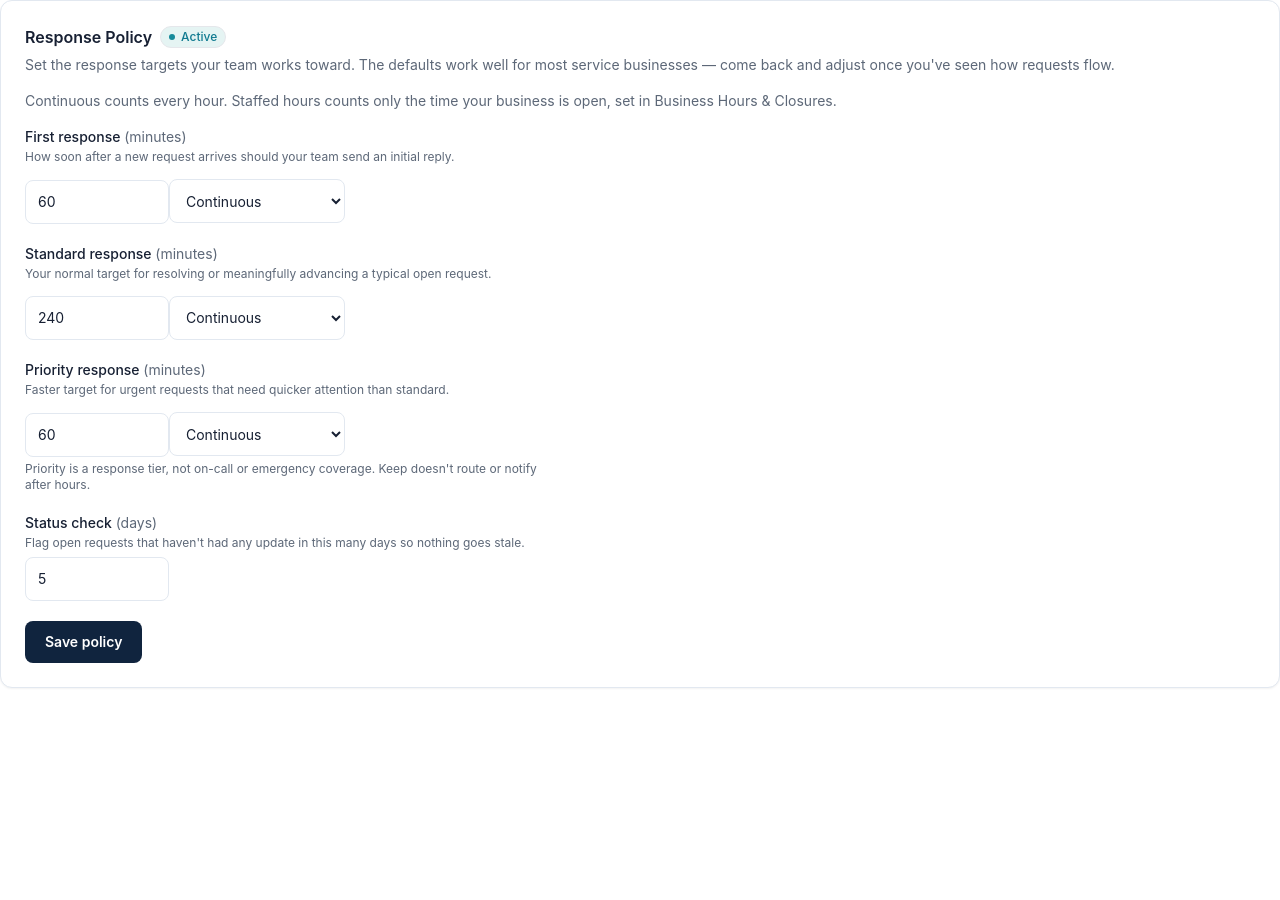
it: PolicySection settingsVersion › resyncs an untouched form from a server change but not a dirty field
The image size is (1280, 900).
Check: the button "Save policy" is shown, box [25,620,142,662]
Replace the text in the number field below "First response" with "30" at [97, 202], box [25,180,169,224]
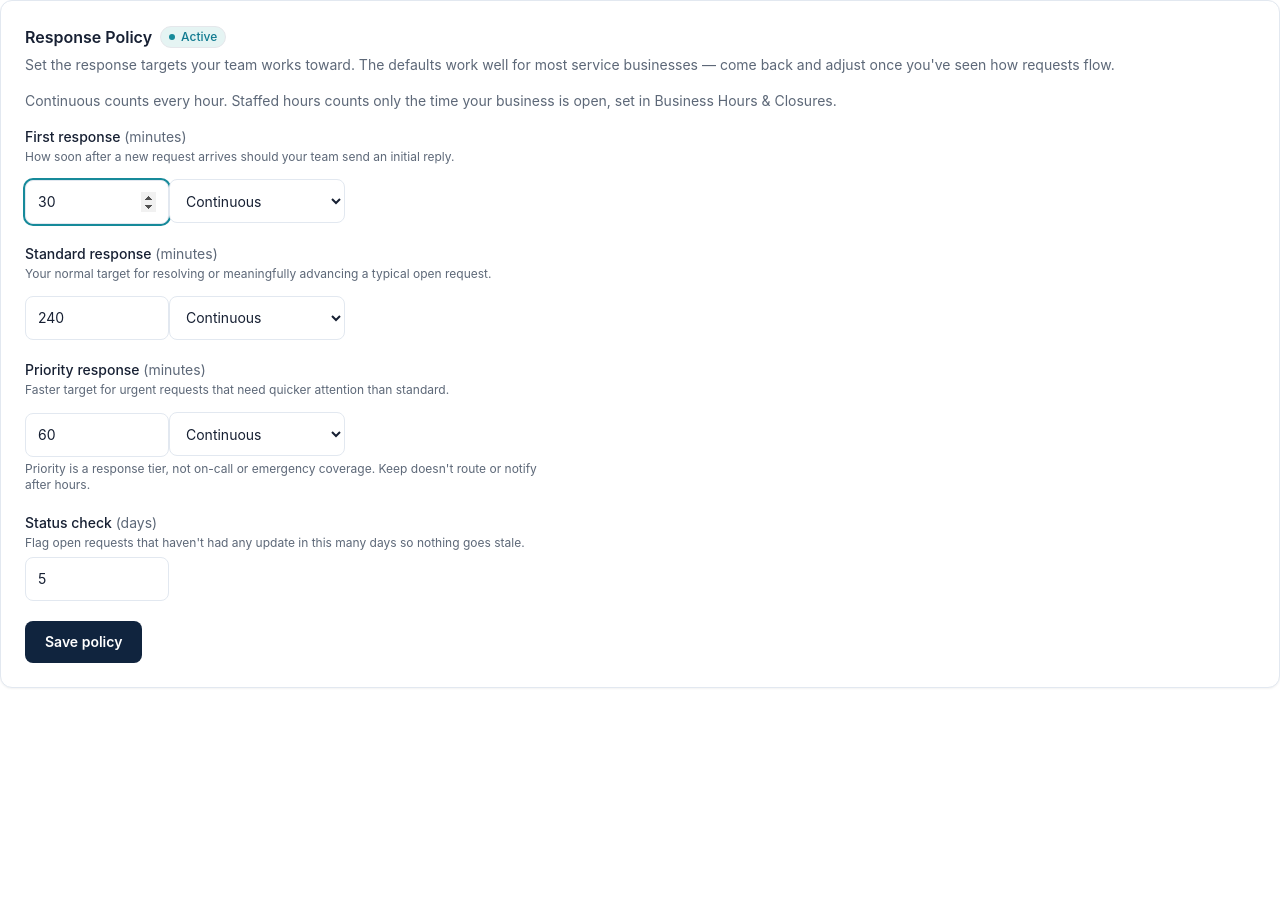
Click the button "Save policy" at [84, 642], box [25,620,142,662]
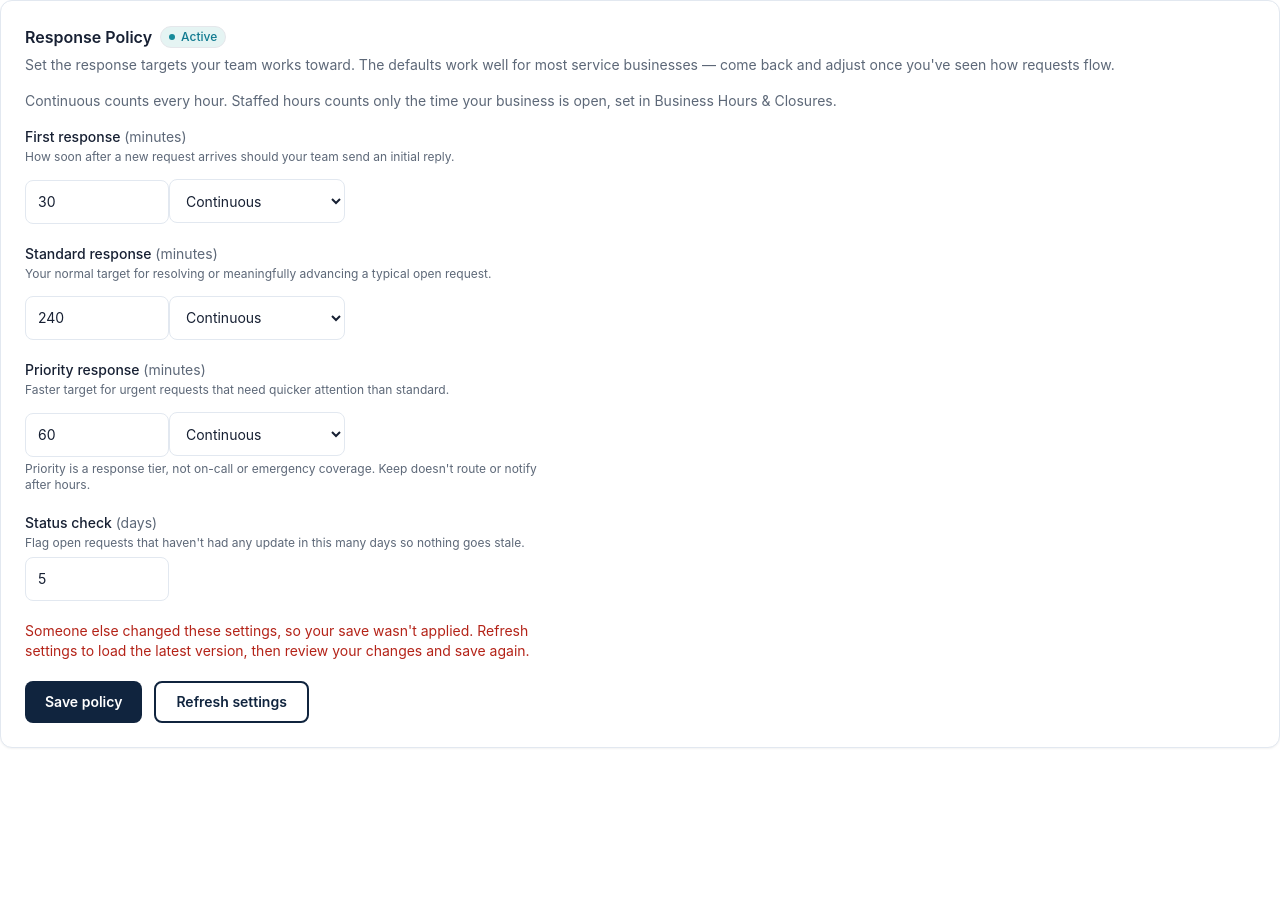
Check: the text "Someone else changed these settings" is shown, box [25,622,530,658]
Click the button "Refresh settings" at [232, 702], box [154,680,309,722]
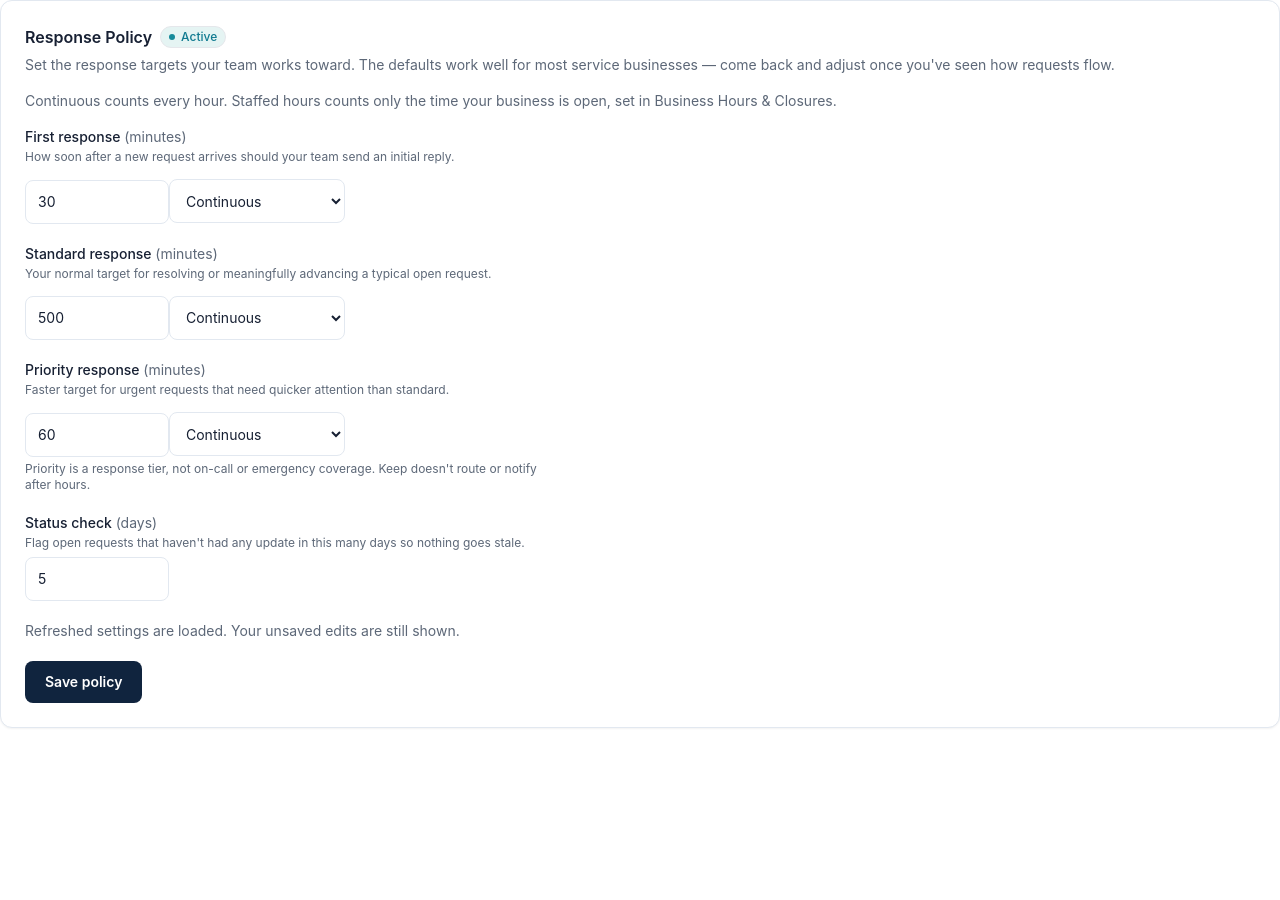
Check: the number field below "Standard response" holds "500", box [25,296,169,340]
